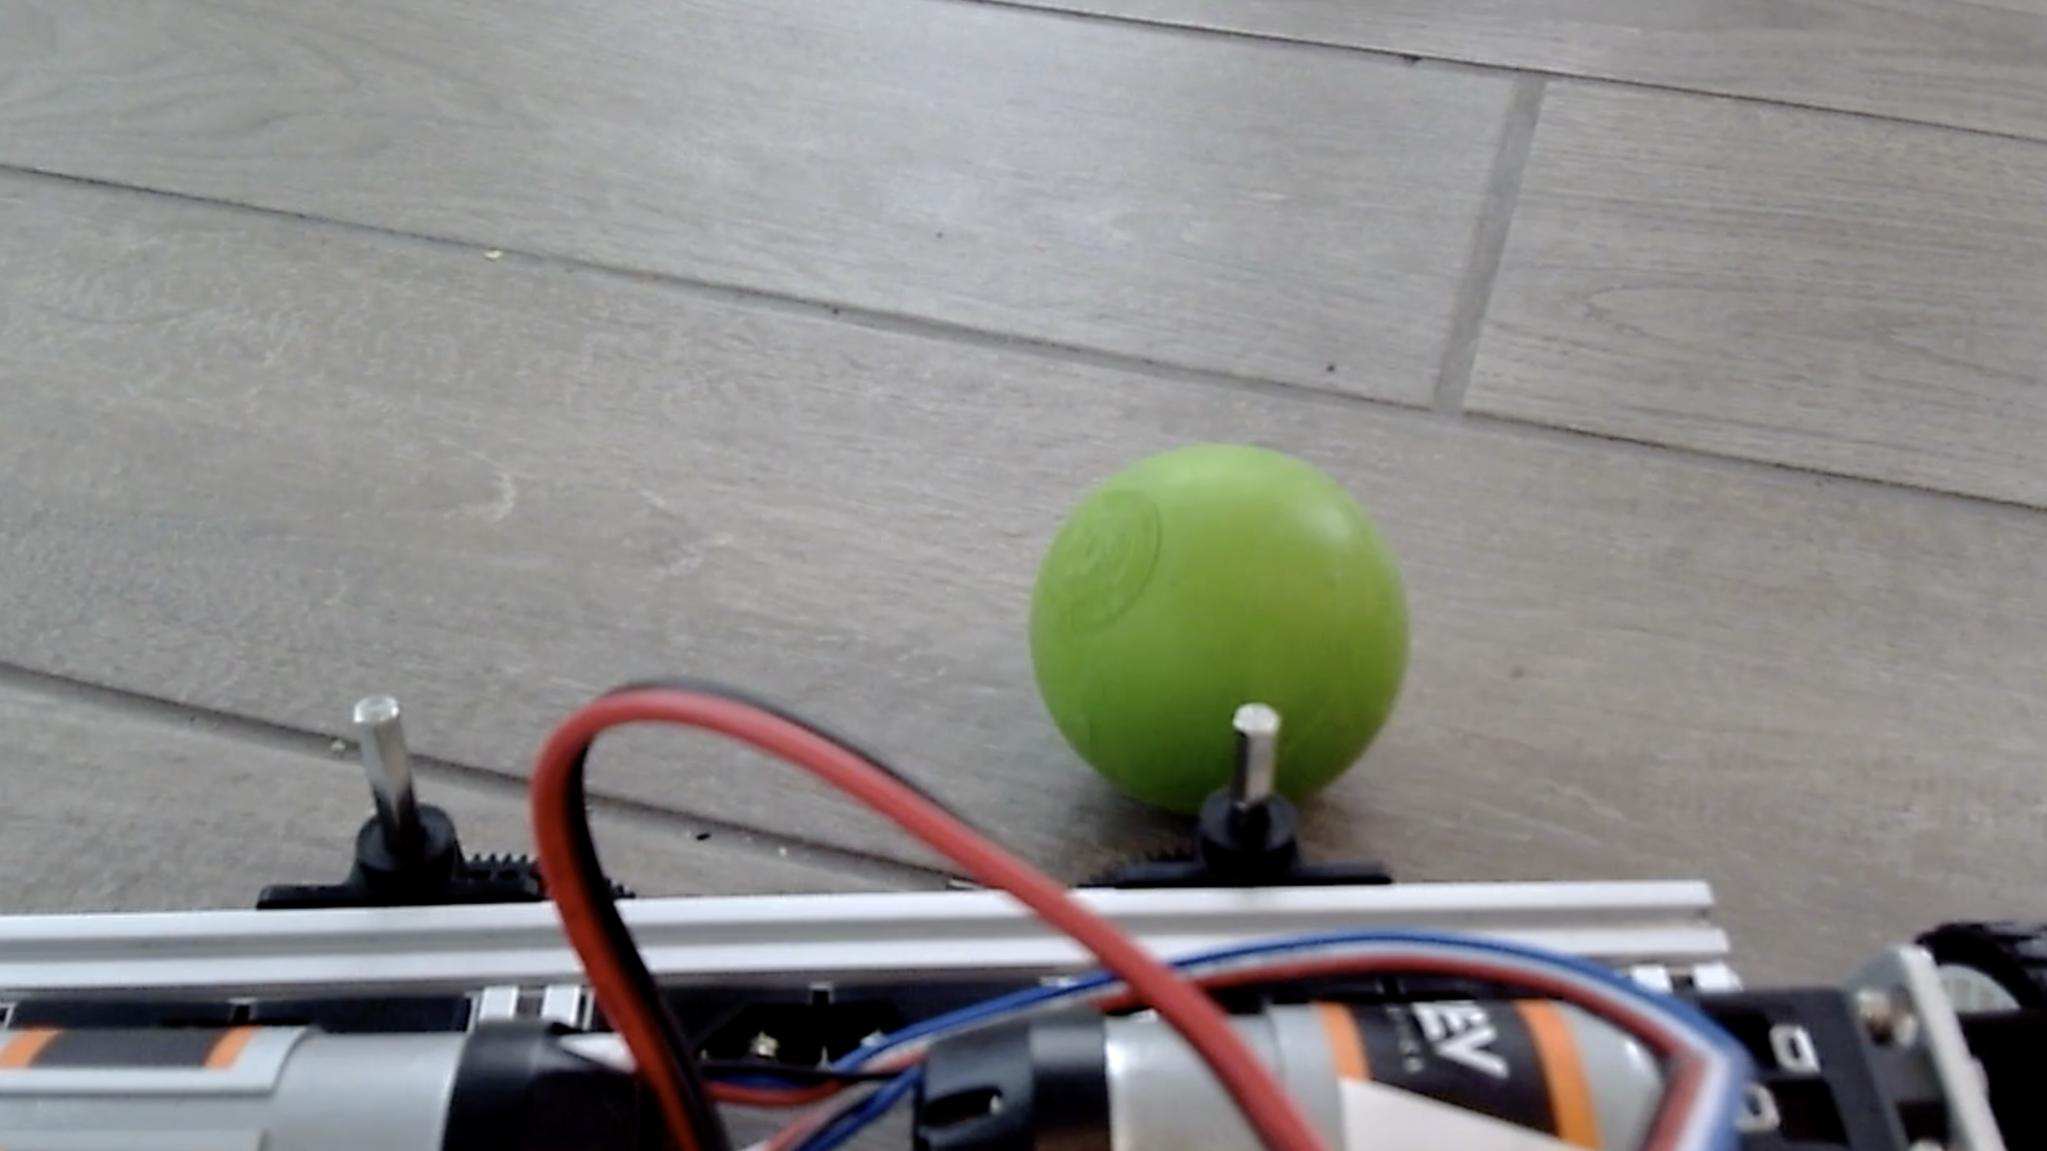greenball: (1025, 436, 1413, 817)
